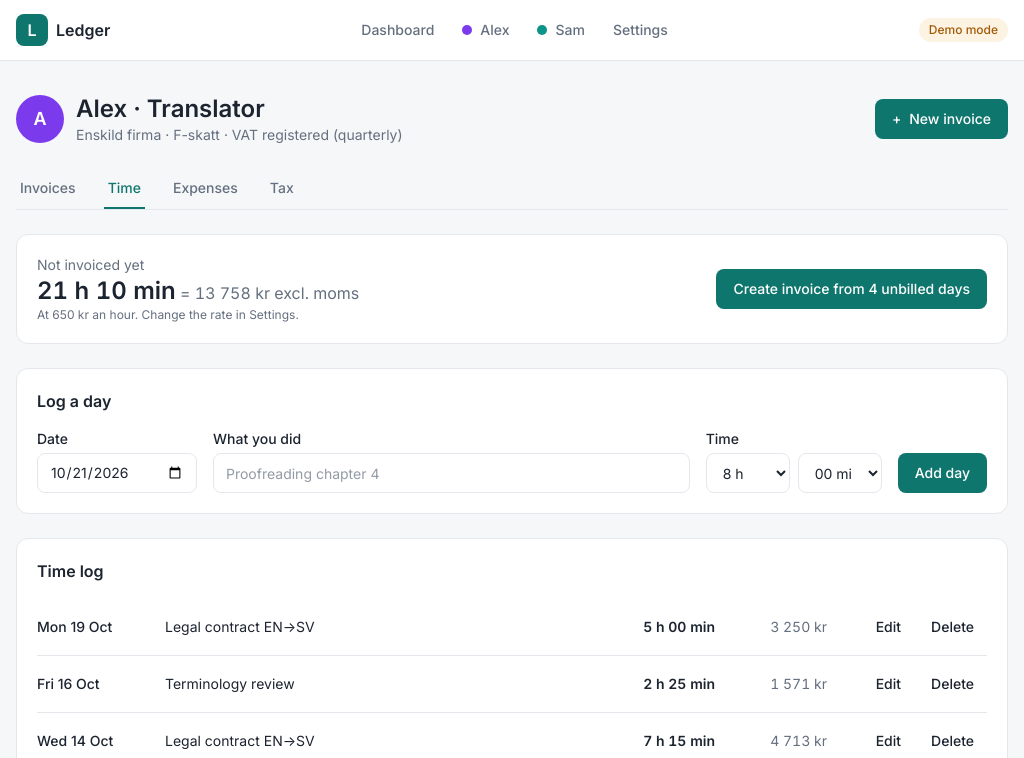
Test: Time page › lets you change the time on an unbilled day
This screenshot has width=1024, height=758.
Click the button "Edit" in the row of "Mon 19 Oct": (888, 627) 863,611 -> 914,643
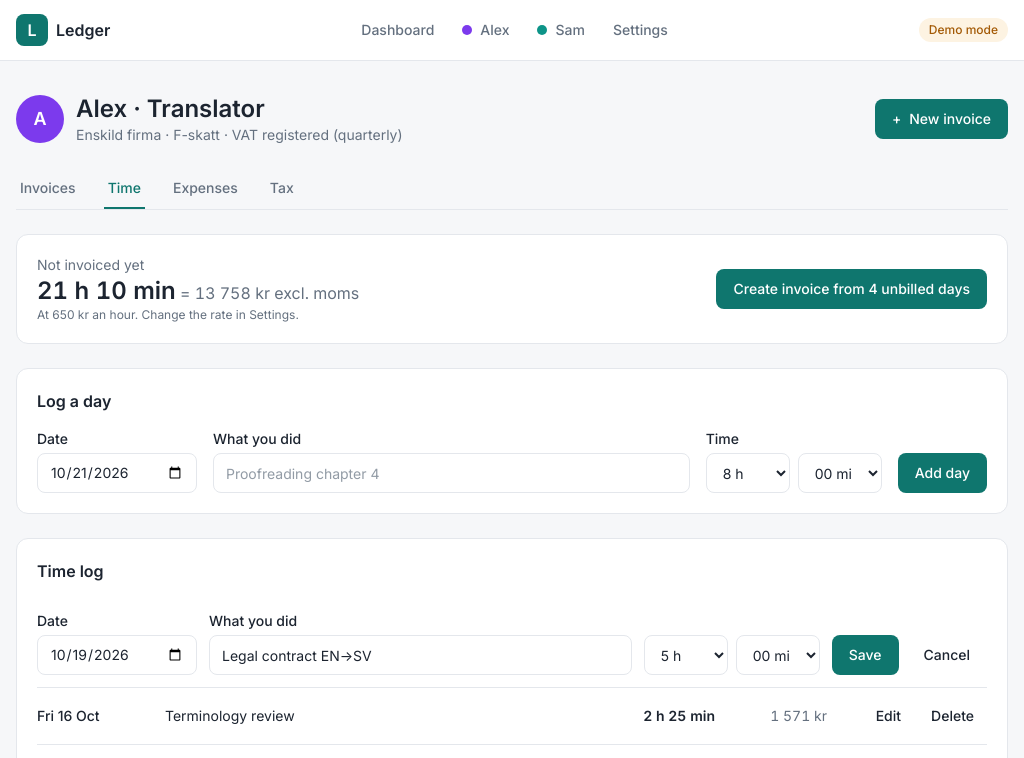
Select "15 min" in the 2nd dropdown named "Minutes": (778, 655) 736,635 -> 820,675
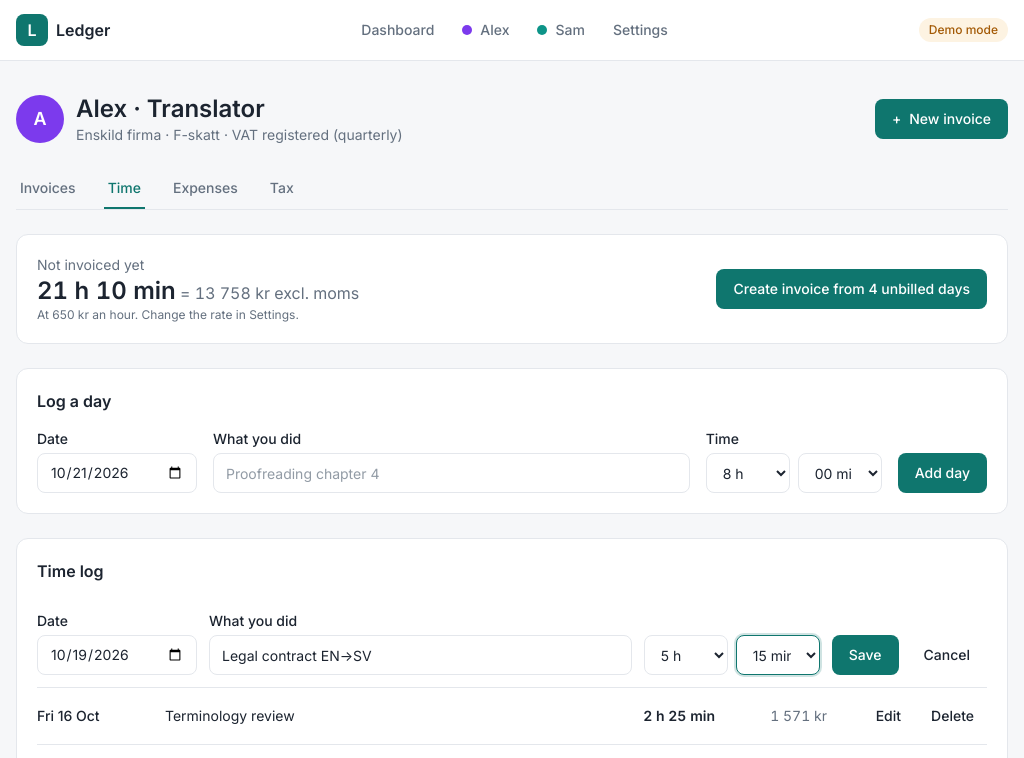
Click the button "Save": (865, 655) 832,635 -> 898,675
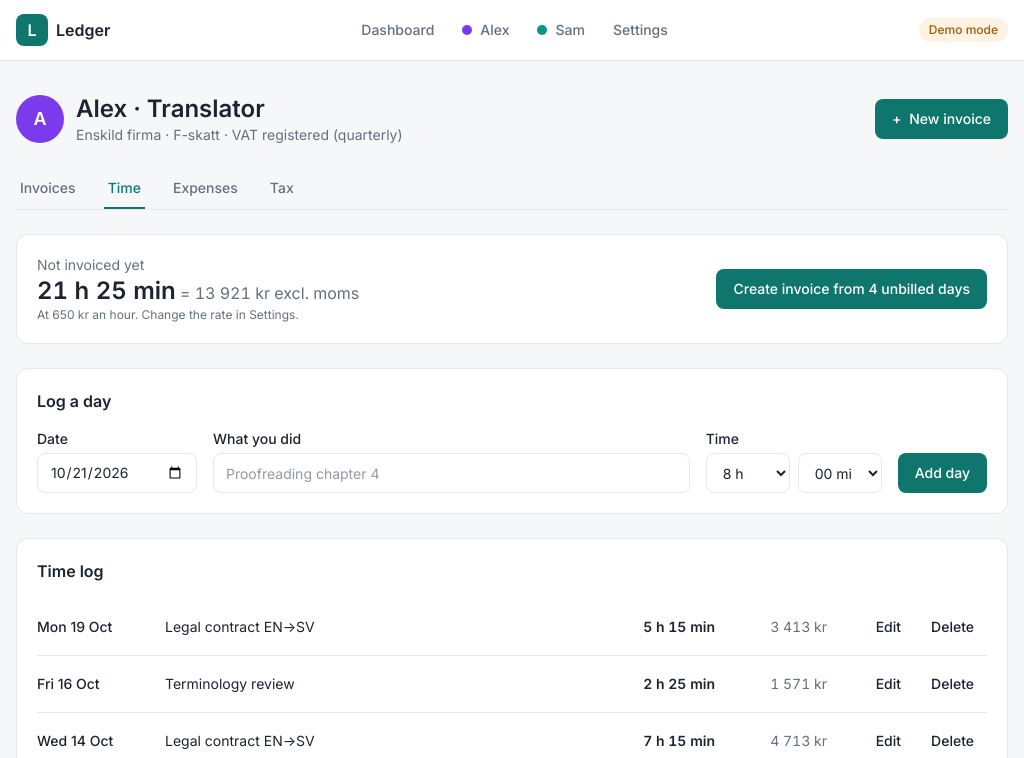
Expected: the text "5 h 15 min" is shown, 643,618 -> 715,635
